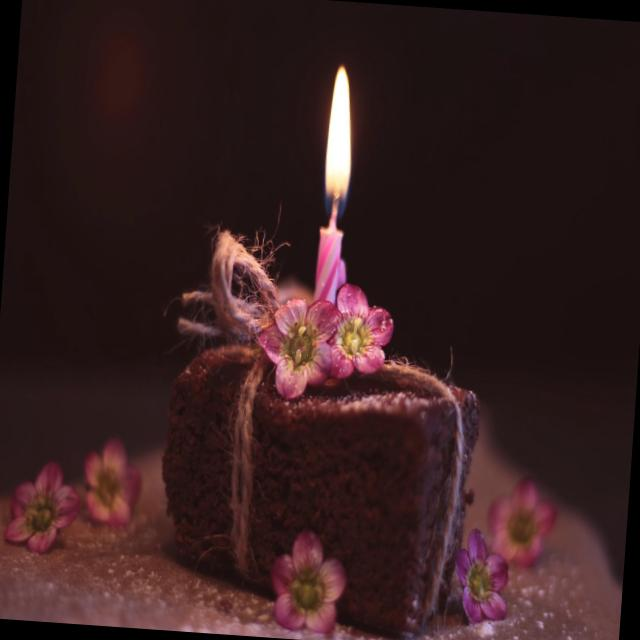Fire_Save: (311, 62, 360, 306)
